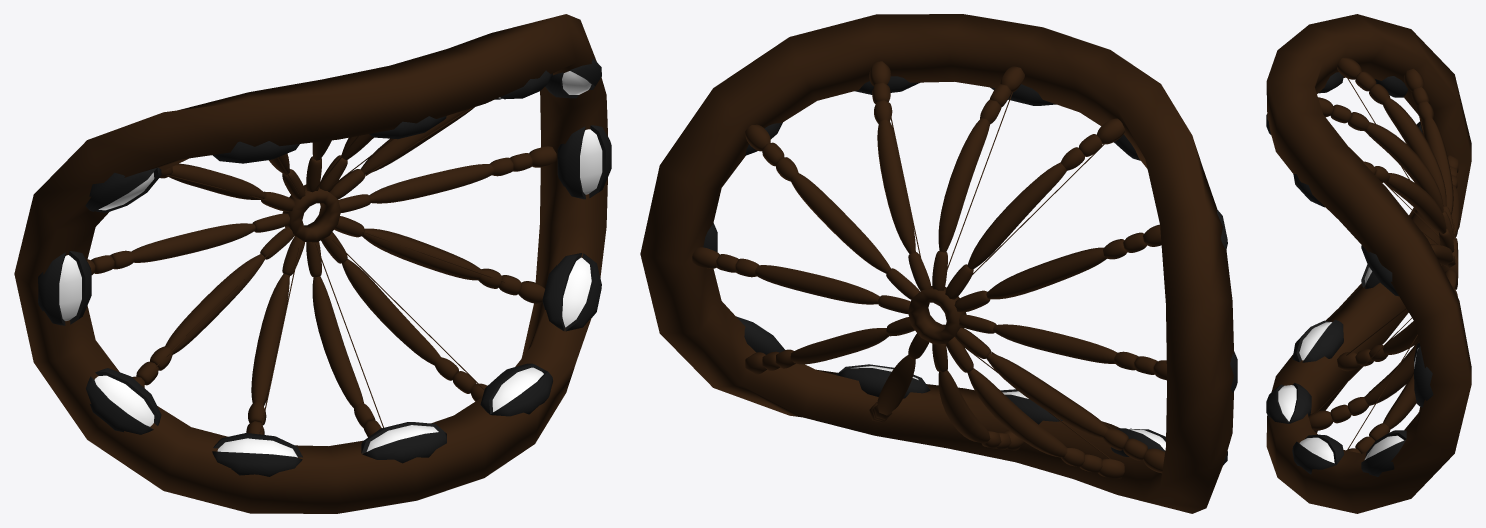
The model's file is BossWheelSplitBigSplitting.FBX.
3 renders of one model, left to right at view 1: azimuth 30°, elevation 25°; view 2: azimuth 150°, elevation 25°; view 3: azimuth 270°, elevation 25°, orthographic. The views are drawn at different scales.
Parts seen in each view (by area): view 1: wheelOuter; view 2: wheelOuter; view 3: wheelOuter.
Boxes of the visible parts, x1,y1,x2,y2 form: wheelOuter: (14, 14, 611, 513); wheelOuter: (640, 14, 1237, 513); wheelOuter: (1266, 14, 1471, 513).
Bounding box in the file's own units: 123 × 86.16 × 43.91.
